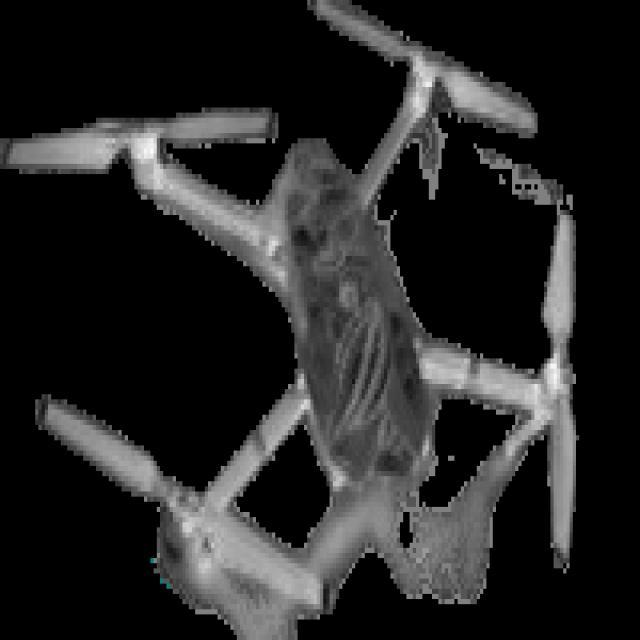drone: (2, 4, 634, 628)
